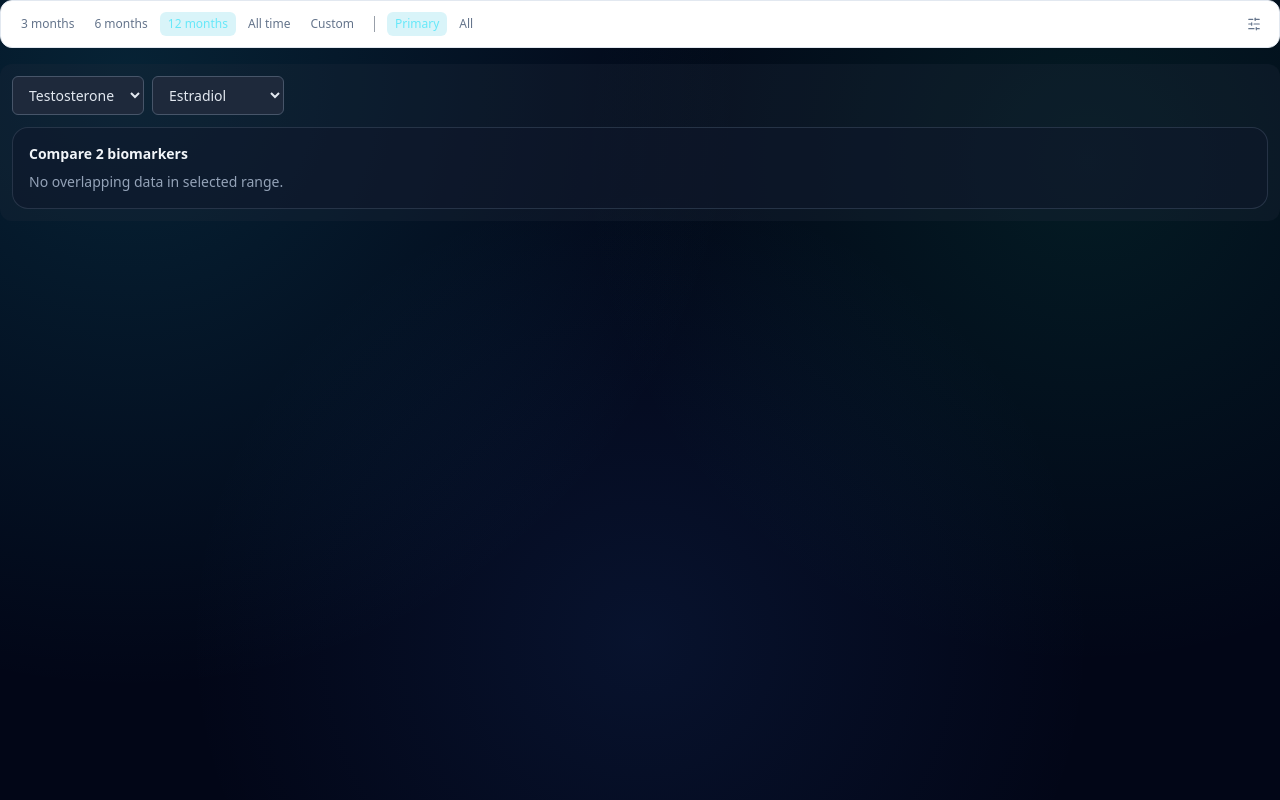
Test case: DashboardView chart controls › hides card-only layer controls in compare mode
The width and height of the screenshot is (1280, 800).
Step 1. Click the button named "Chart settings" → (1254, 24), box x1=1241 y1=11 x2=1267 y2=37
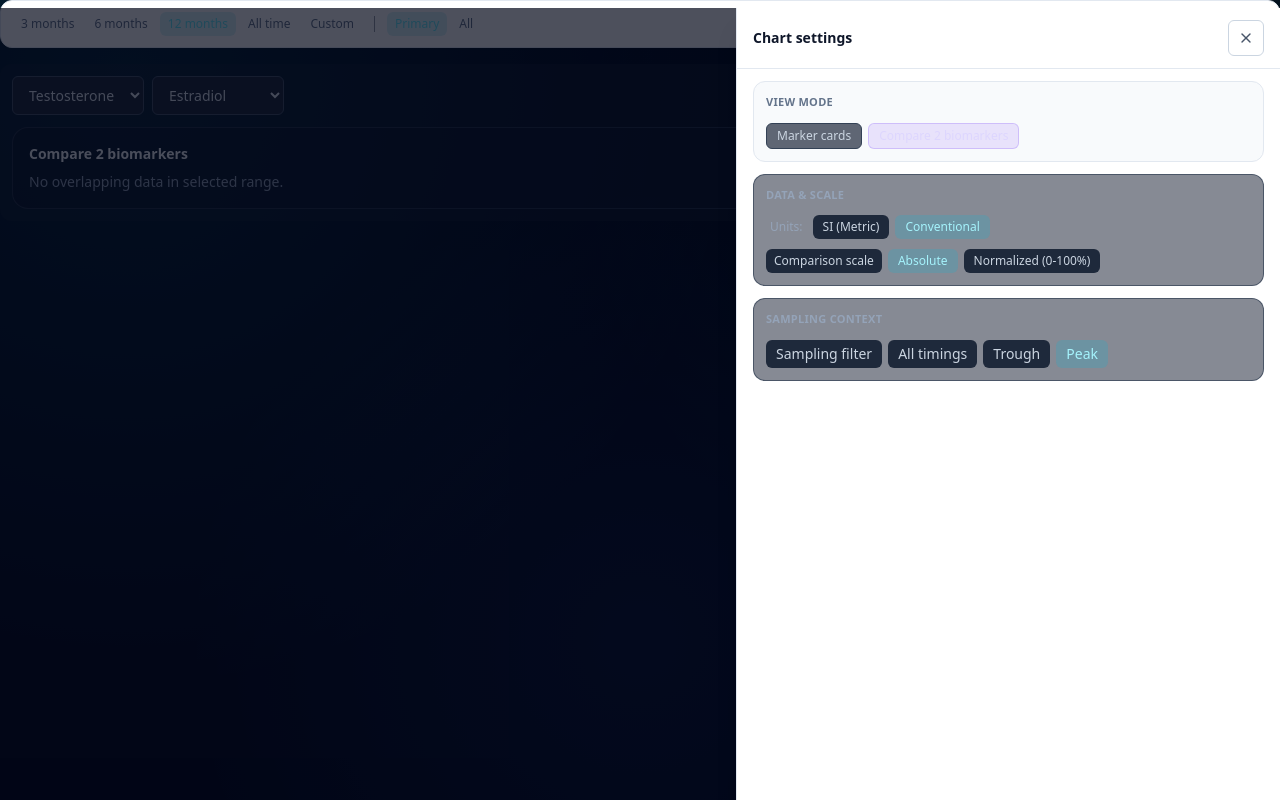
Expected: the text "Data & scale" is shown, x1=766 y1=186 x2=844 y2=202
Expected: the text "Comparison scale" is shown, x1=766 y1=249 x2=882 y2=273
